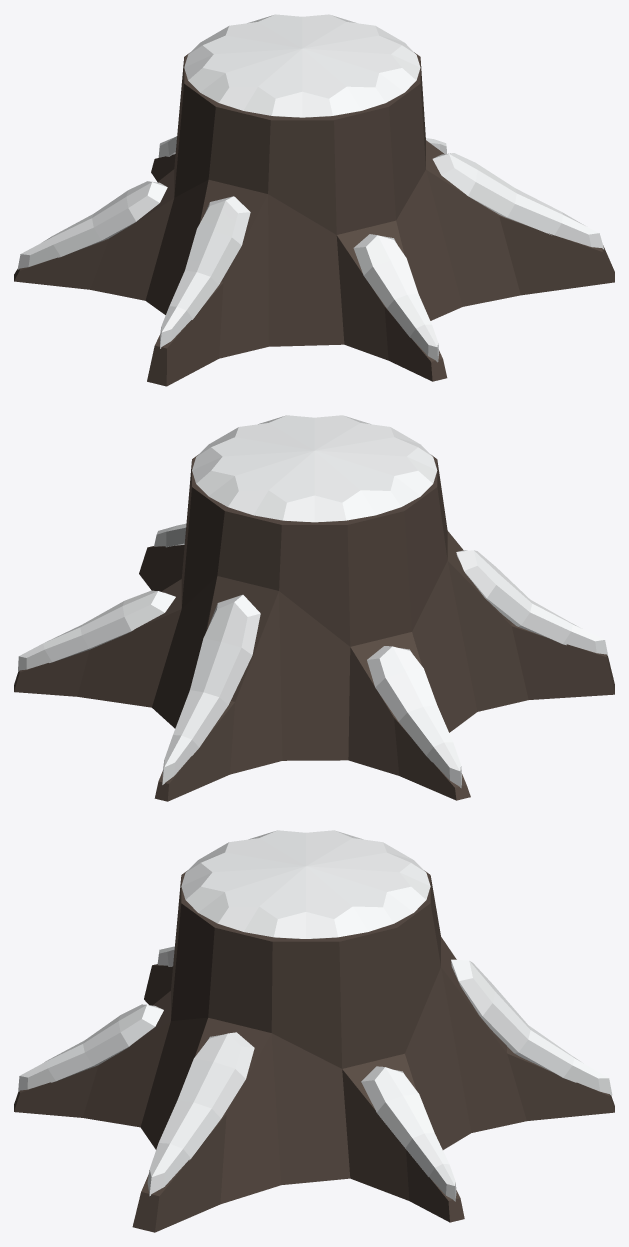
The model's file is gocCay.glb.
3 views of the same model, one above another, from view 1: azimuth 30°, elevation 25°; view 2: azimuth 150°, elevation 25°; view 3: azimuth 270°, elevation 25° (orthographic). The views are drawn at different scales.
Parts seen in each view (by area): view 1: Cylinder.001; view 2: Cylinder.001; view 3: Cylinder.001.
Boxes of the visible parts, x1=… form: Cylinder.001: x1=14, y1=14, x2=614, y2=386; Cylinder.001: x1=14, y1=415, x2=614, y2=801; Cylinder.001: x1=14, y1=830, x2=614, y2=1232.
Size of the model in its own units: 1.28 by 0.6161 by 1.36.
